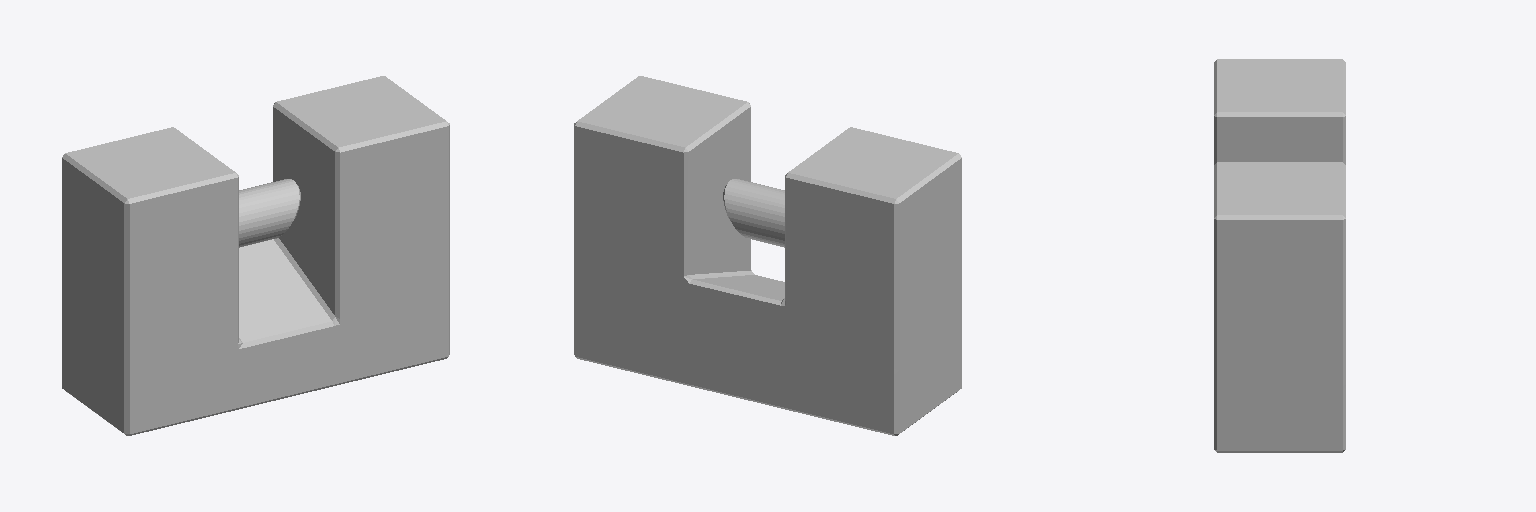
The model's file is laserScanner.obj.
3 views of the same model, side by side, from view 1: azimuth 30°, elevation 25°; view 2: azimuth 150°, elevation 25°; view 3: azimuth 270°, elevation 25° (orthographic).
Parts seen in each view (by area): view 1: laserScannerCombined1; view 2: laserScannerCombined1; view 3: laserScannerCombined1.
Part boxes in pixels (x1,y1,x2,y2): laserScannerCombined1: (62, 76, 449, 435); laserScannerCombined1: (574, 76, 961, 435); laserScannerCombined1: (1214, 59, 1345, 452).
Bounding box in the file's own units: 2.83 × 1.97 × 1.